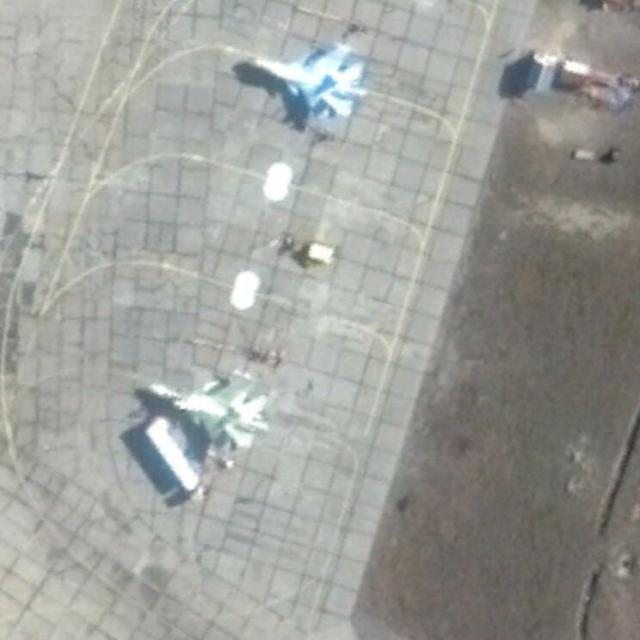fighter jet: (135, 368, 259, 472), (240, 36, 363, 118)
